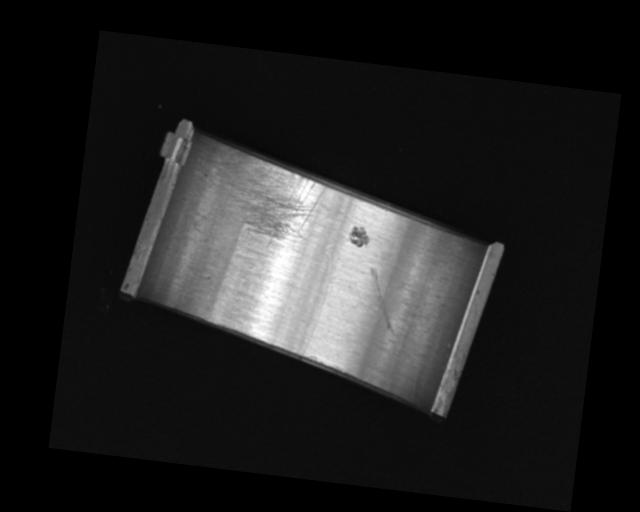bruise: (347, 225, 372, 248)
nick: (302, 244, 335, 359), (363, 267, 402, 335)
scratch: (215, 146, 331, 253)
